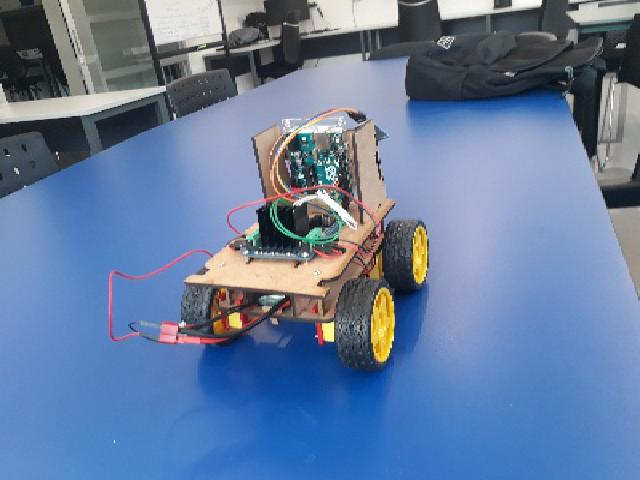Robot: (179, 118, 430, 372)
